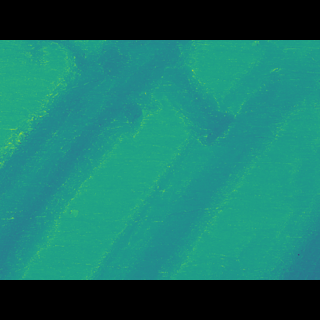Loch: (84, 73, 320, 250), (0, 67, 227, 249)
